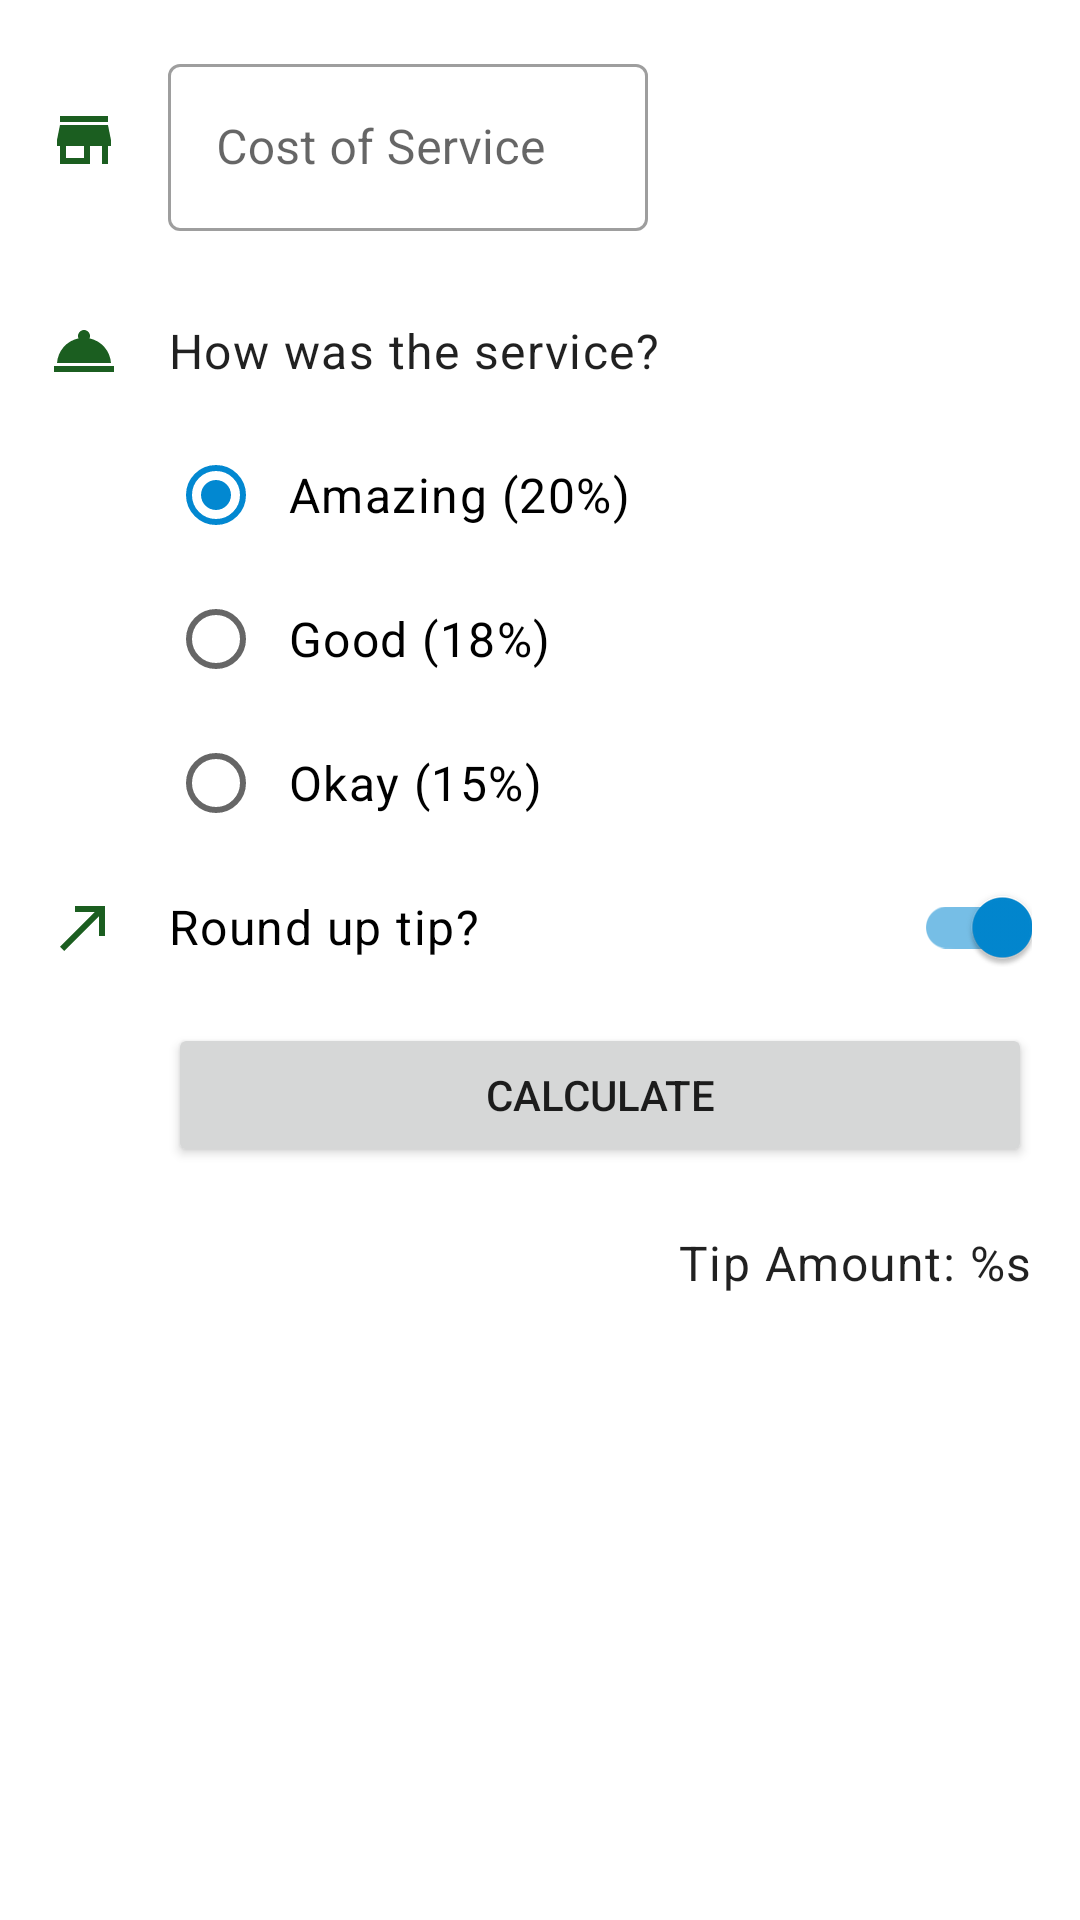

Icon bounding boxes for this 1080*1920 phone screenshot, format (x1, y1, x2, y2):
store: (57, 116, 111, 164)
